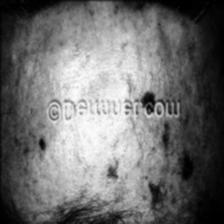Unclassified: (182, 159, 198, 177), (106, 161, 120, 181)
